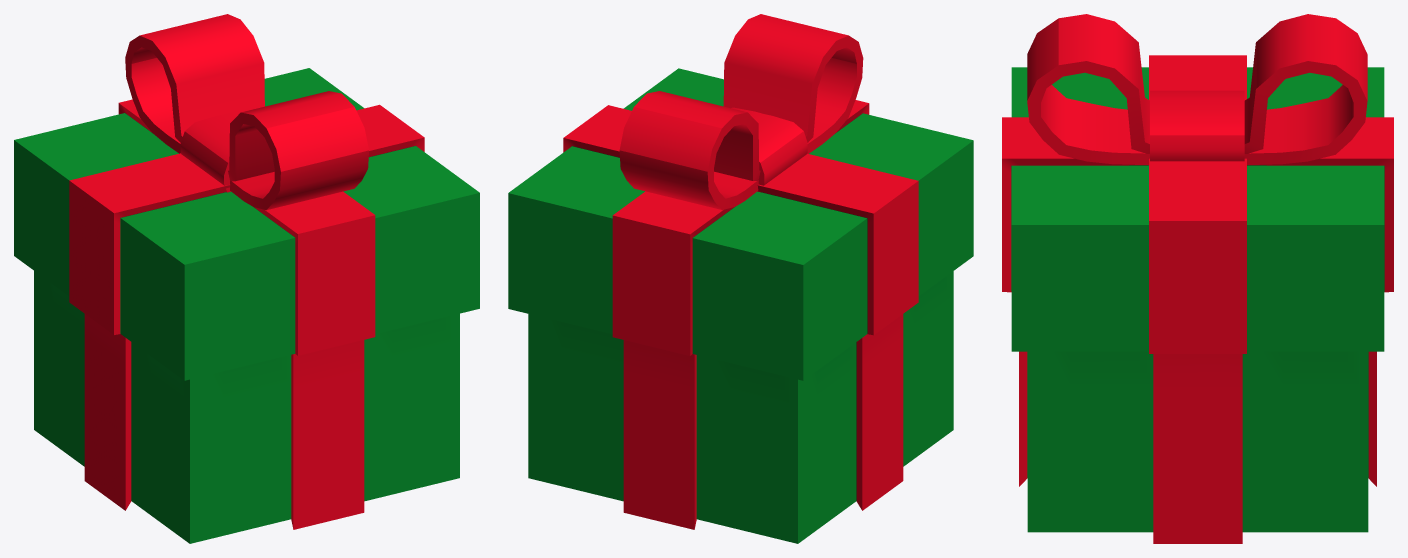
File: Cadeau vert.fbx
3 views of the same model, side by side, from view 1: azimuth 30°, elevation 25°; view 2: azimuth 150°, elevation 25°; view 3: azimuth 270°, elevation 25° (orthographic). The views are drawn at different scales.
Parts seen in each view (by area): view 1: pCube1, pCube2, pCube4, pCube3; view 2: pCube1, pCube4, pCube2, pCube3; view 3: pCube1, pCube4, pCube2, pCube3.
Part boxes in pixels (x1,y1,x2,y2): pCube1: [14, 68, 479, 543]; pCube2: [228, 91, 368, 210]; pCube4: [125, 14, 264, 153]; pCube3: [180, 107, 257, 192]; pCube1: [508, 68, 973, 543]; pCube4: [619, 91, 760, 209]; pCube2: [723, 14, 863, 153]; pCube3: [731, 107, 807, 192]; pCube1: [1002, 55, 1393, 543]; pCube4: [1244, 14, 1367, 164]; pCube2: [1027, 14, 1149, 165]; pCube3: [1150, 90, 1244, 161].
Size of the model in its own units: 9.2 by 11.16 by 9.2.
